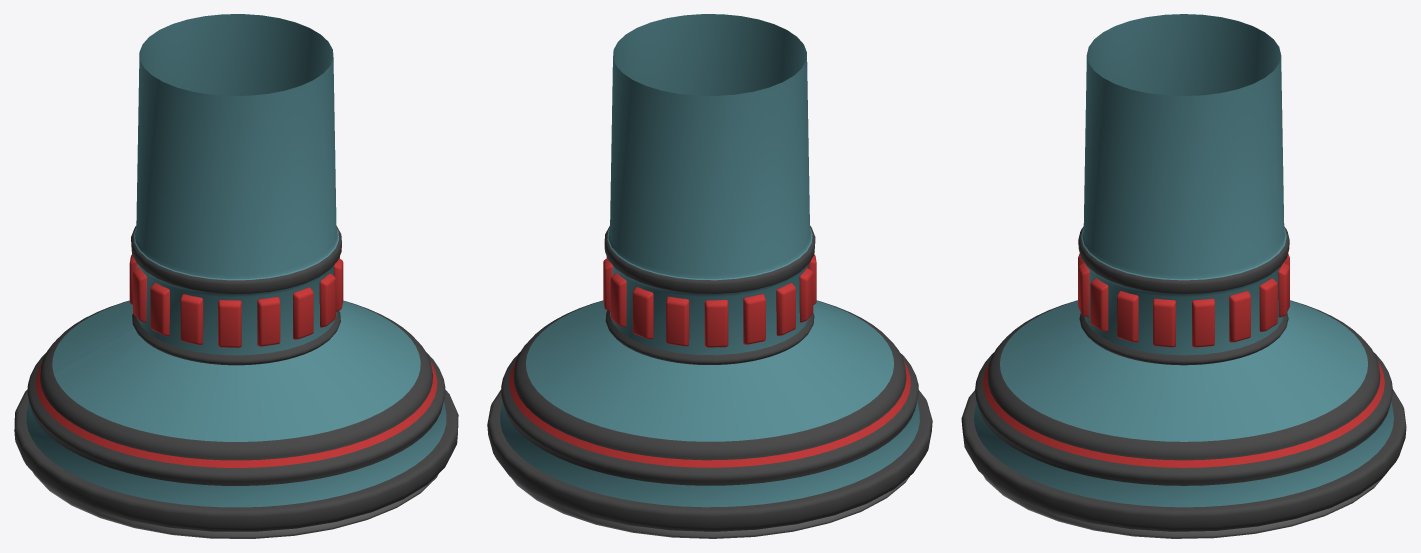
Rendered from Pipe.fbx.
3 views of the same model, side by side, from view 1: azimuth 30°, elevation 25°; view 2: azimuth 150°, elevation 25°; view 3: azimuth 270°, elevation 25° (orthographic).
Visible parts, largest first — view 1: Pipe; view 2: Pipe; view 3: Pipe.
Part boxes in pixels (bbox=[...]): Pipe: bbox=[14, 14, 458, 538]; Pipe: bbox=[487, 14, 932, 538]; Pipe: bbox=[961, 14, 1406, 538].
Size of the model in its own units: 446 by 438 by 446.
